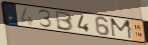3: (38, 9, 54, 29)
4: (19, 7, 35, 27), (77, 15, 91, 34)
6: (94, 16, 110, 37)
B: (55, 11, 75, 33)
M: (109, 17, 134, 41)
